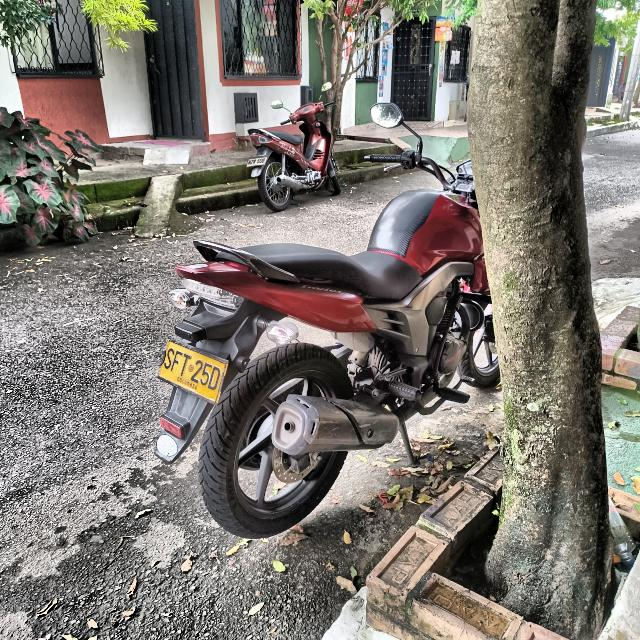plate: (158, 338, 227, 404)
